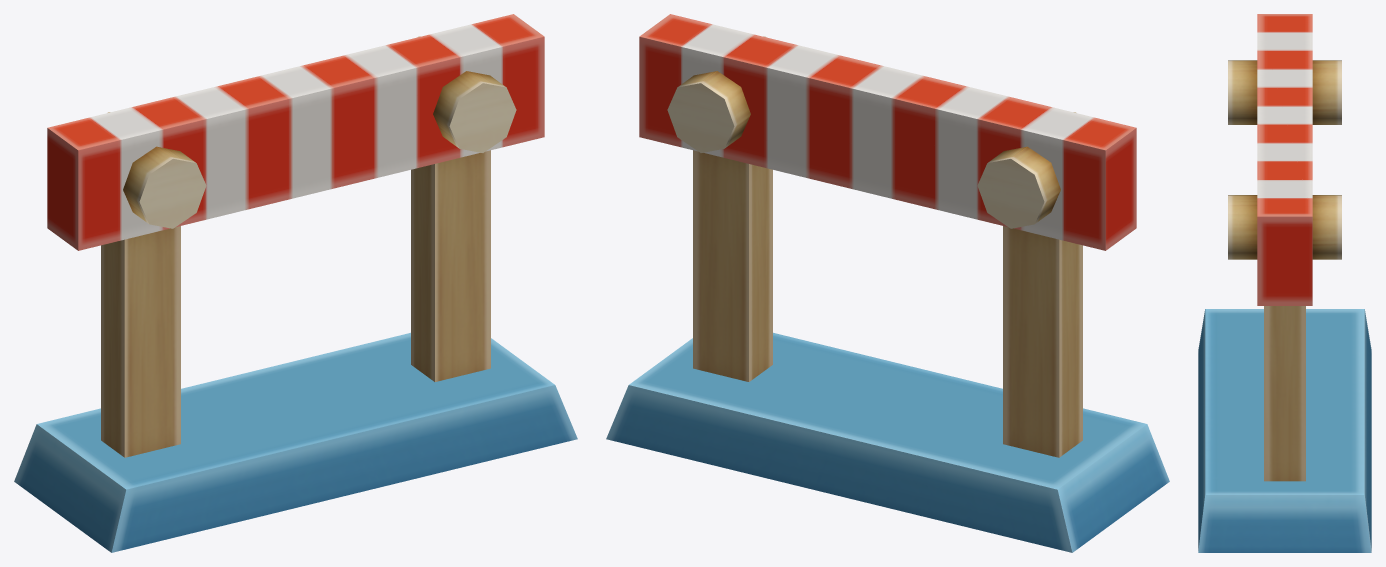
The model's file is Trap01.FBX.
3 views of the same model, side by side, from view 1: azimuth 30°, elevation 25°; view 2: azimuth 150°, elevation 25°; view 3: azimuth 270°, elevation 25° (orthographic). The views are drawn at different scales.
Parts seen in each view (by area): view 1: Trap01; view 2: Trap01; view 3: Trap01.
Boxes of the visible parts, x1,y1,x2,y2 form: Trap01: [14, 14, 577, 552]; Trap01: [606, 14, 1169, 552]; Trap01: [1198, 14, 1371, 552].
Bounding box in the file's own units: 140 × 108 × 50.69.
